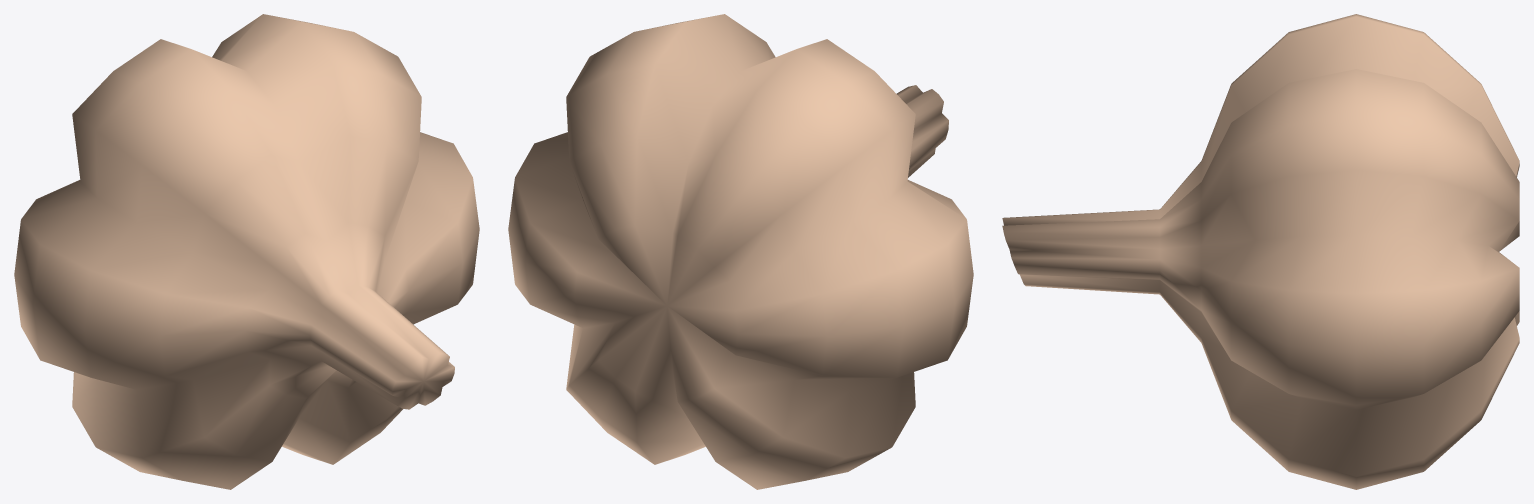
The model's file is garlic.fbx.
The picture shows the model from 3 angles, left to right: view 1: azimuth 30°, elevation 25°; view 2: azimuth 150°, elevation 25°; view 3: azimuth 270°, elevation 25°; orthographic projection. The views are drawn at different scales.
Visible parts, largest first — view 1: garlic; view 2: garlic; view 3: garlic.
Part boxes in pixels (left/top/right/bottom): garlic: left=14, top=14, right=479, bottom=489; garlic: left=508, top=14, right=973, bottom=489; garlic: left=1002, top=14, right=1519, bottom=489.
Size of the model in its own units: 8.31 by 8.03 by 9.
